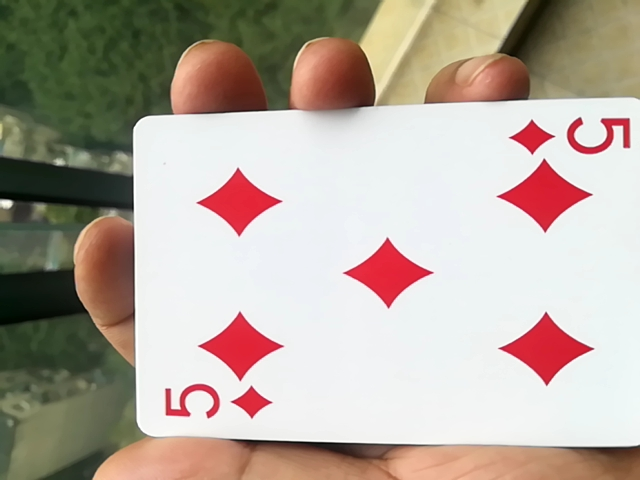fk 5: (124, 105, 635, 460)
